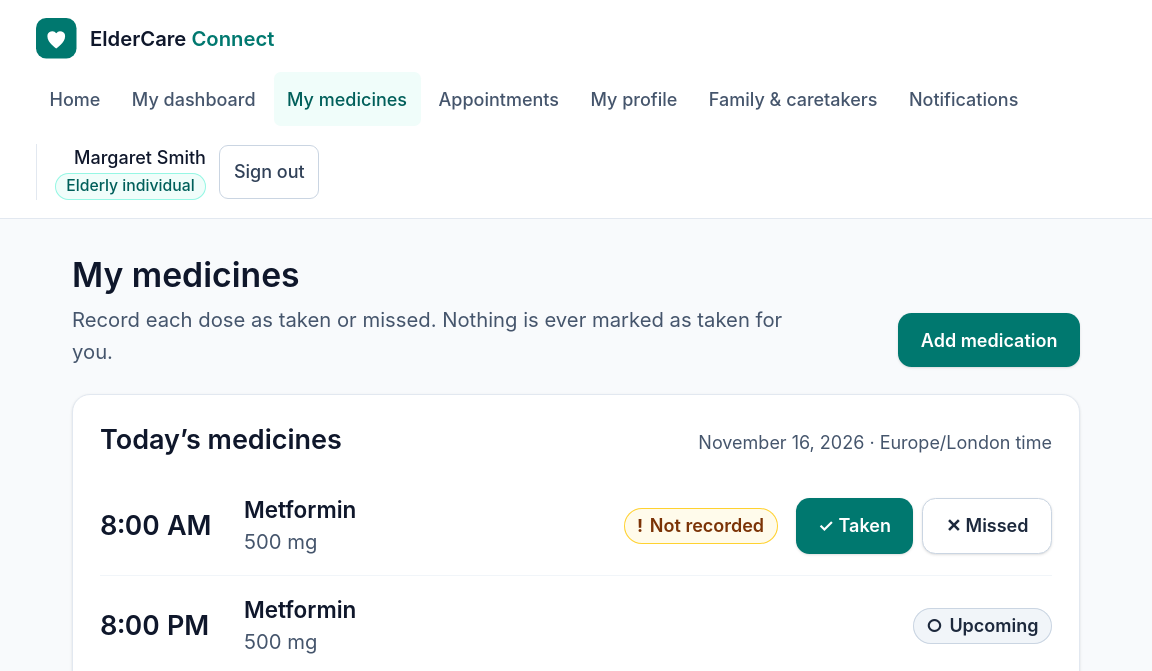
it: elderly medication dashboard › shows a conflict from the server instead of recording twice
What coordinates should you click on to do the following:
click the button with aria-label "as missed"
I would click on:
 (987, 526)
Its box is [922,498,1052,554].
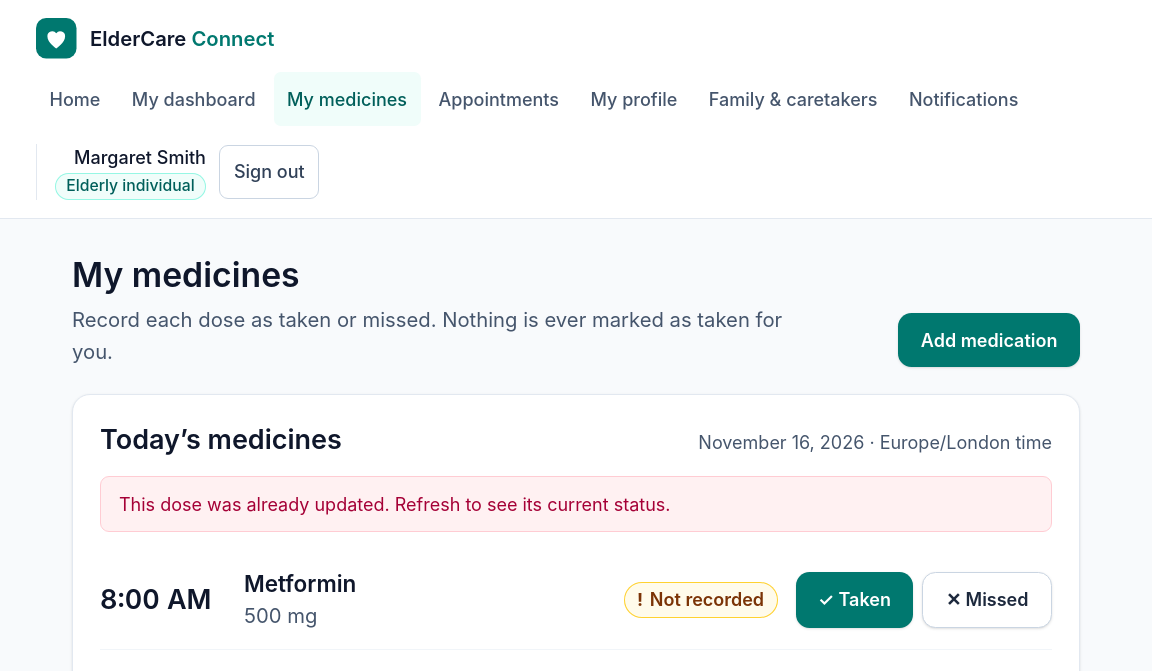
Check: the message shows "already updated", box [119,494,670,515]
